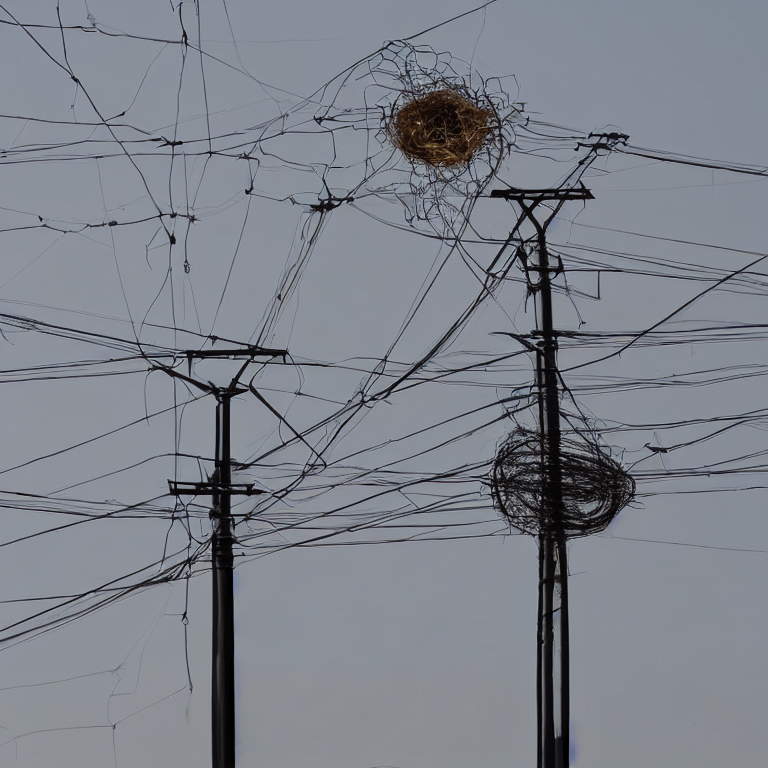nest: (497, 436, 630, 539), (394, 87, 500, 169)
